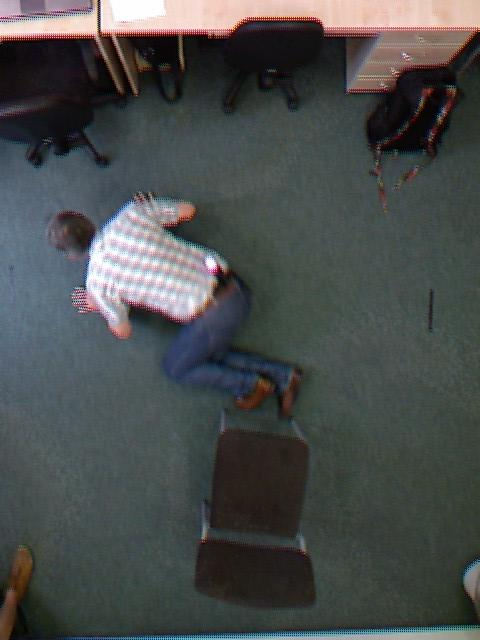fall: (83, 129, 271, 483)
